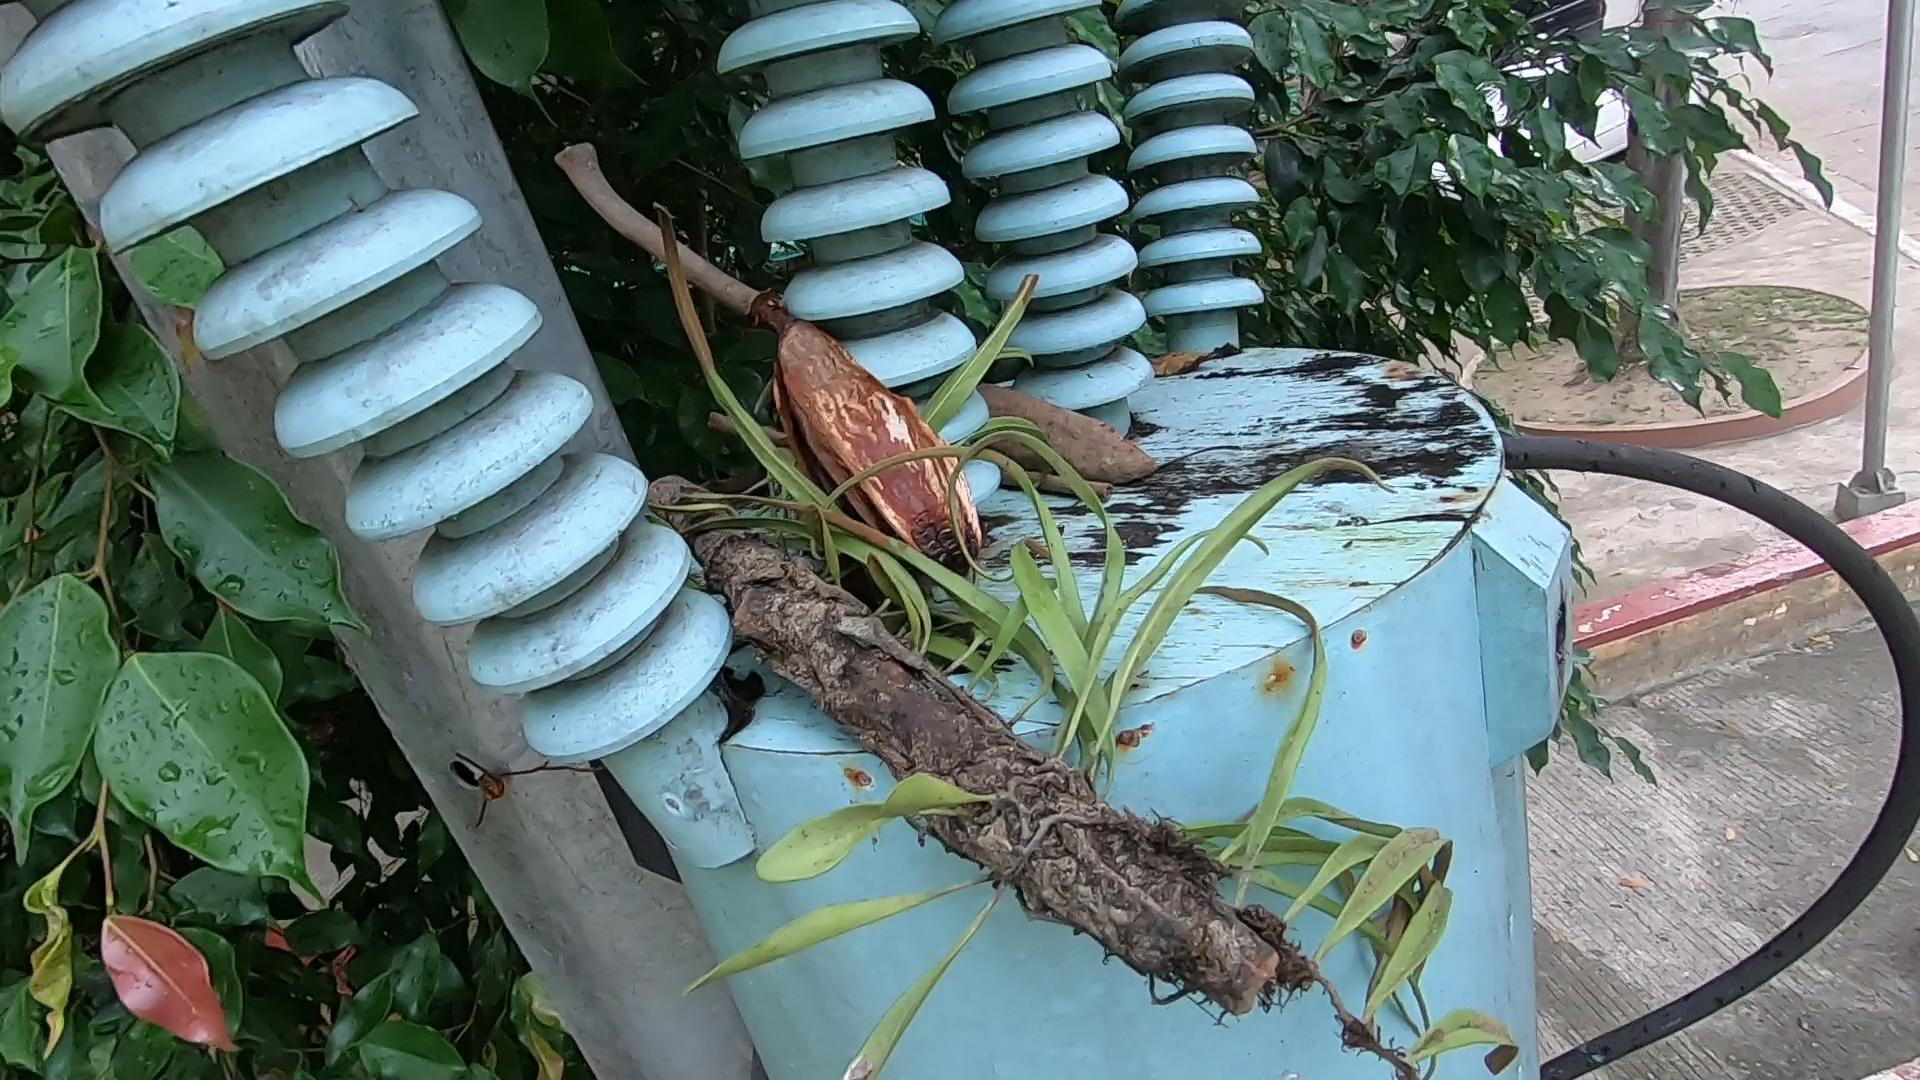branch with leaves: (724, 510, 1366, 1073)
leaf: (1143, 334, 1278, 386)
mahogany fruit: (731, 324, 1002, 538), (956, 349, 1185, 484)
tree branch: (549, 123, 745, 315), (1004, 454, 1127, 509)
